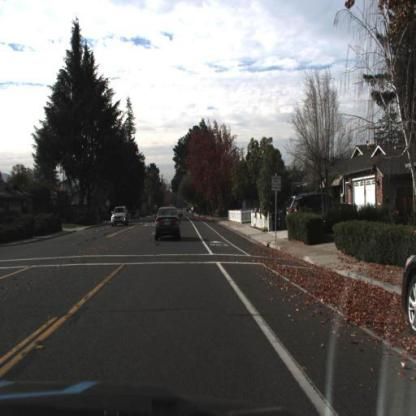biker: (199, 207, 203, 221), (192, 206, 196, 219)
car: (284, 193, 350, 232), (155, 206, 183, 241), (107, 207, 135, 231)
